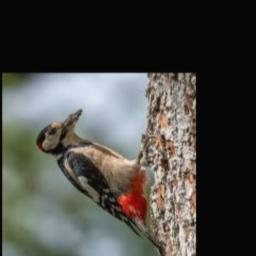Woodpecker: (36, 109, 166, 256)
